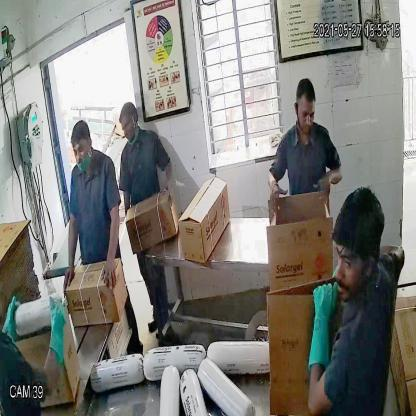no_goggles: (290, 104, 320, 126), (70, 142, 93, 162)
